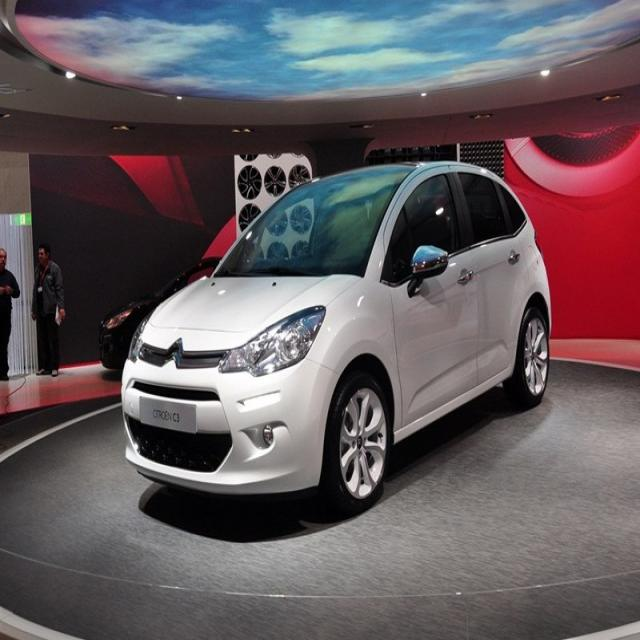door: (458, 167, 532, 376)
front_bumper: (119, 358, 345, 495)
front_glass: (214, 165, 416, 282)
front_left_side_door: (382, 149, 484, 432)
front_left_side_light: (219, 302, 327, 376)
front_left_side_mirror: (410, 242, 451, 299)
front_right_side_light: (125, 319, 154, 372)
wheel: (318, 370, 389, 508), (510, 301, 551, 403)
